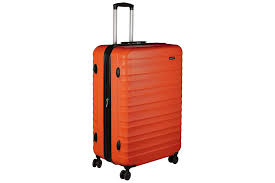suitcase: (88, 3, 186, 181)
